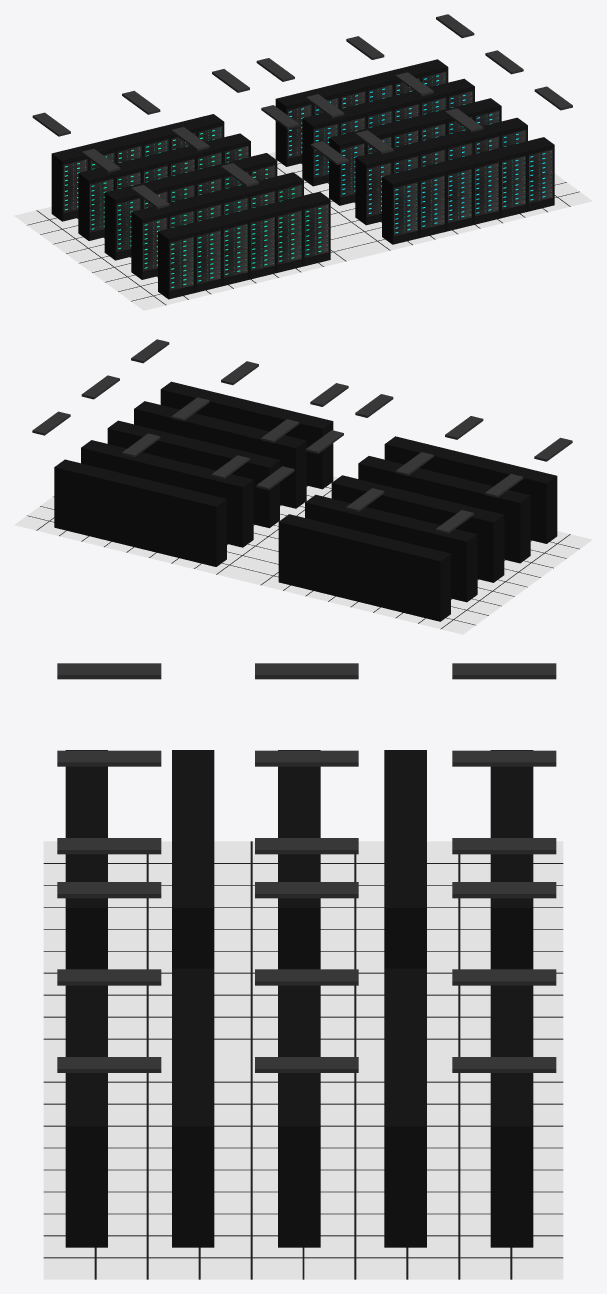
File: big dc .glb
3 renders of one model, top to bottom at view 1: azimuth 30°, elevation 25°; view 2: azimuth 150°, elevation 25°; view 3: azimuth 270°, elevation 25°, orthographic. The views are drawn at different scales.
Parts seen in each view (by area): view 1: Cluster, Cluster_MetalCase_0_4, Cluster_Frente_0_5, Plane.001, Plane.001_PisoBranco_0_11, LampTeto.003_LampCase_0_13, LampTeto.003, Cluster_Verde_0_6, Plane, Plane_PisoPreto_0_9; view 2: Cluster, Cluster_MetalCase_0_4, Plane.001, Plane.001_PisoBranco_0_11, LampTeto.003_LampCase_0_13, LampTeto.003, Plane, Plane_PisoPreto_0_9; view 3: Plane.001_PisoBranco_0_11, Plane.001, Cluster_MetalCase_0_4, Cluster, LampTeto.003, LampTeto.003_LampCase_0_13, Plane_PisoPreto_0_9, Plane.
Part boxes in pixels (x1,y1,x2,y2): Cluster: (51, 114, 330, 299); Cluster_MetalCase_0_4: (275, 59, 554, 244); Cluster_Frente_0_5: (287, 71, 552, 236); Plane.001: (14, 206, 367, 310); Plane.001_PisoBranco_0_11: (268, 152, 592, 255); LampTeto.003_LampCase_0_13: (256, 14, 572, 154); LampTeto.003: (32, 69, 348, 208); Cluster_Verde_0_6: (289, 75, 551, 233); Plane: (27, 210, 355, 305); Plane_PisoPreto_0_9: (277, 163, 579, 250); Cluster: (278, 436, 557, 621); Cluster_MetalCase_0_4: (54, 381, 333, 566); Plane.001: (238, 531, 592, 634); Plane.001_PisoBranco_0_11: (14, 476, 338, 579); LampTeto.003_LampCase_0_13: (32, 339, 348, 479); LampTeto.003: (256, 394, 572, 533); Plane: (251, 534, 579, 629); Plane_PisoPreto_0_9: (27, 485, 331, 574); Plane.001_PisoBranco_0_11: (43, 1061, 563, 1279); Plane.001: (43, 841, 563, 1060); Cluster_MetalCase_0_4: (65, 968, 533, 1247); Cluster: (65, 750, 533, 968); LampTeto.003: (57, 663, 556, 854); LampTeto.003_LampCase_0_13: (57, 882, 556, 1072); Plane_PisoPreto_0_9: (43, 1061, 563, 1279); Plane: (43, 841, 563, 1060).
Bounding box in the file's own units: 87.83 × 18.2 × 44.
16 materials, 2 textured.
